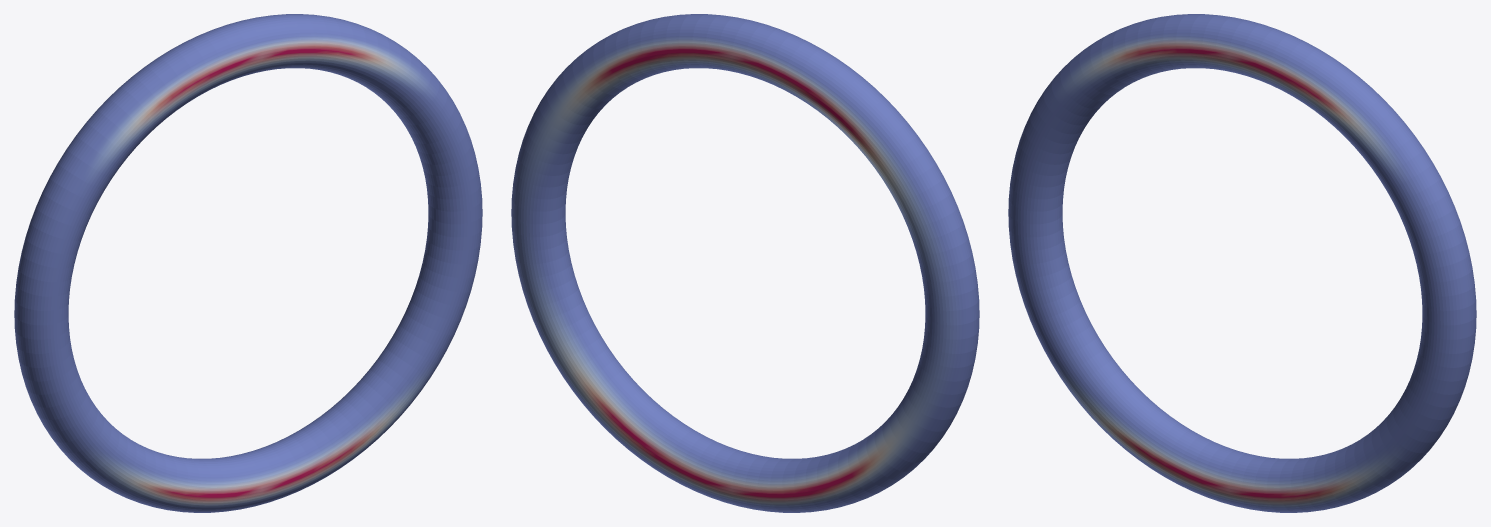
3 views of the same model, side by side, from view 1: azimuth 30°, elevation 25°; view 2: azimuth 150°, elevation 25°; view 3: azimuth 330°, elevation 25° (orthographic).
Visible parts, largest first — view 1: world; view 2: world; view 3: world.
Part boxes in pixels (x1,y1,x2,y2): world: (14, 14, 482, 512); world: (511, 14, 979, 512); world: (1008, 14, 1476, 512).
Bounding box in the file's own units: 22.27 × 22.27 × 2.26.
